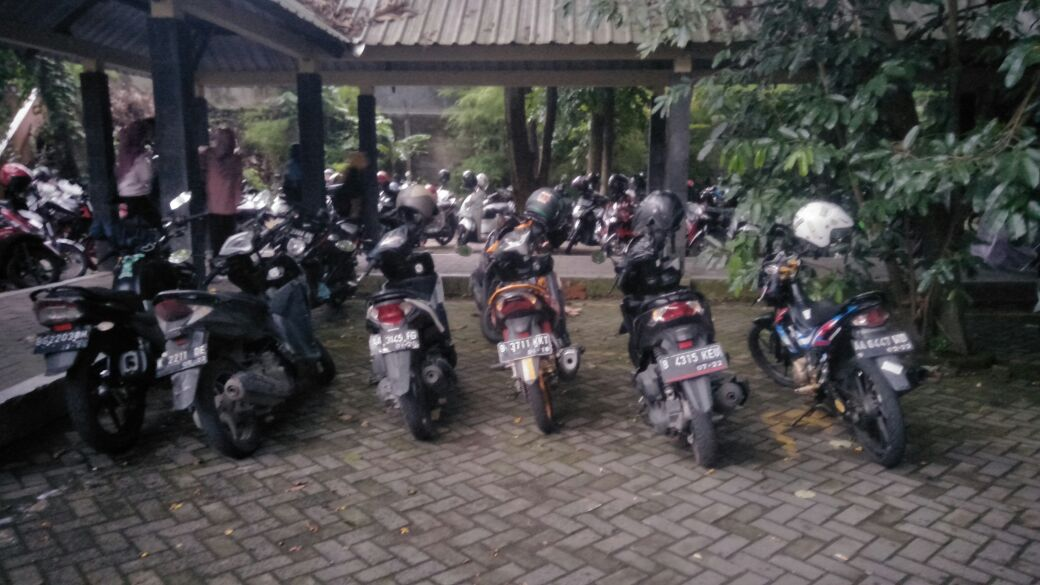plate: (658, 342, 729, 384), (853, 332, 915, 357), (497, 334, 554, 360), (156, 341, 206, 370), (369, 329, 420, 356), (34, 327, 89, 349)
